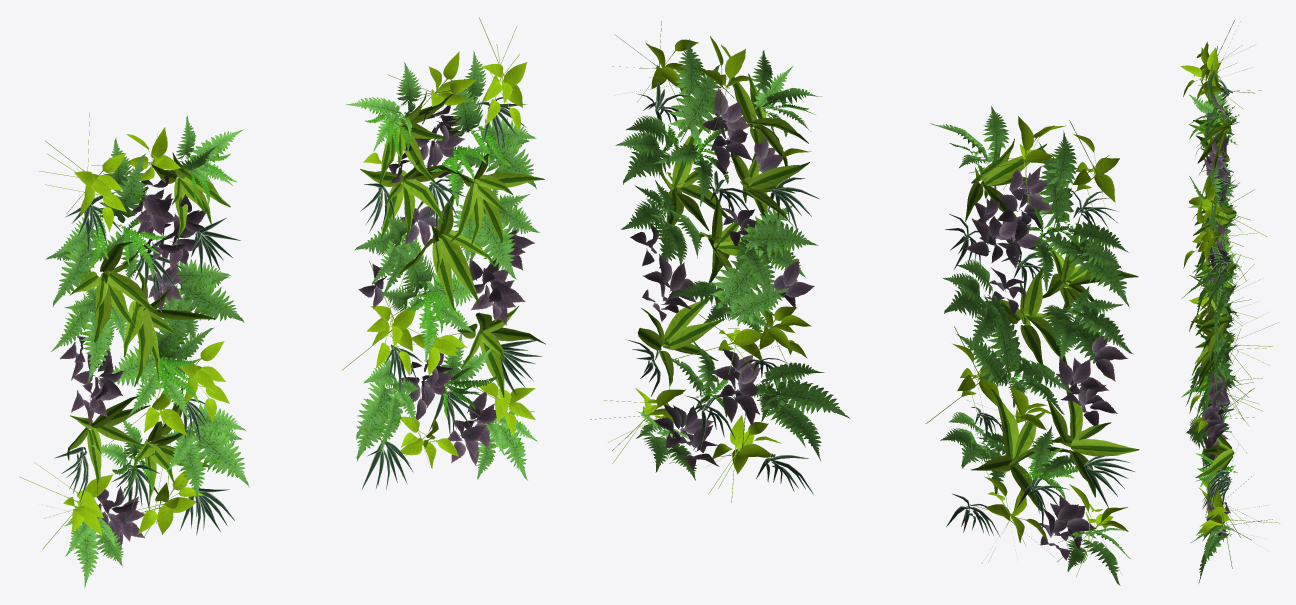
Rendered from wallPlanter_plants.fbx.
3 views of the same model, side by side, from view 1: azimuth 30°, elevation 25°; view 2: azimuth 150°, elevation 25°; view 3: azimuth 270°, elevation 25° (orthographic). The views are drawn at different scales.
Parts seen in each view (by area): view 1: wallPlanter_plants_01, wallPlanter_plants_02; view 2: wallPlanter_plants_02, wallPlanter_plants_01; view 3: wallPlanter_plants_02, wallPlanter_plants_01.
Part boxes in pixels (x1=…): wallPlanter_plants_01: x1=19, y1=112, x2=249, y2=588; wallPlanter_plants_02: x1=342, y1=17, x2=545, y2=489; wallPlanter_plants_02: x1=590, y1=21, x2=849, y2=502; wallPlanter_plants_01: x1=926, y1=106, x2=1139, y2=585; wallPlanter_plants_02: x1=1181, y1=161, x2=1279, y2=583; wallPlanter_plants_01: x1=1180, y1=20, x2=1278, y2=426.
Size of the model in its own units: 182 by 155 by 37.21.
